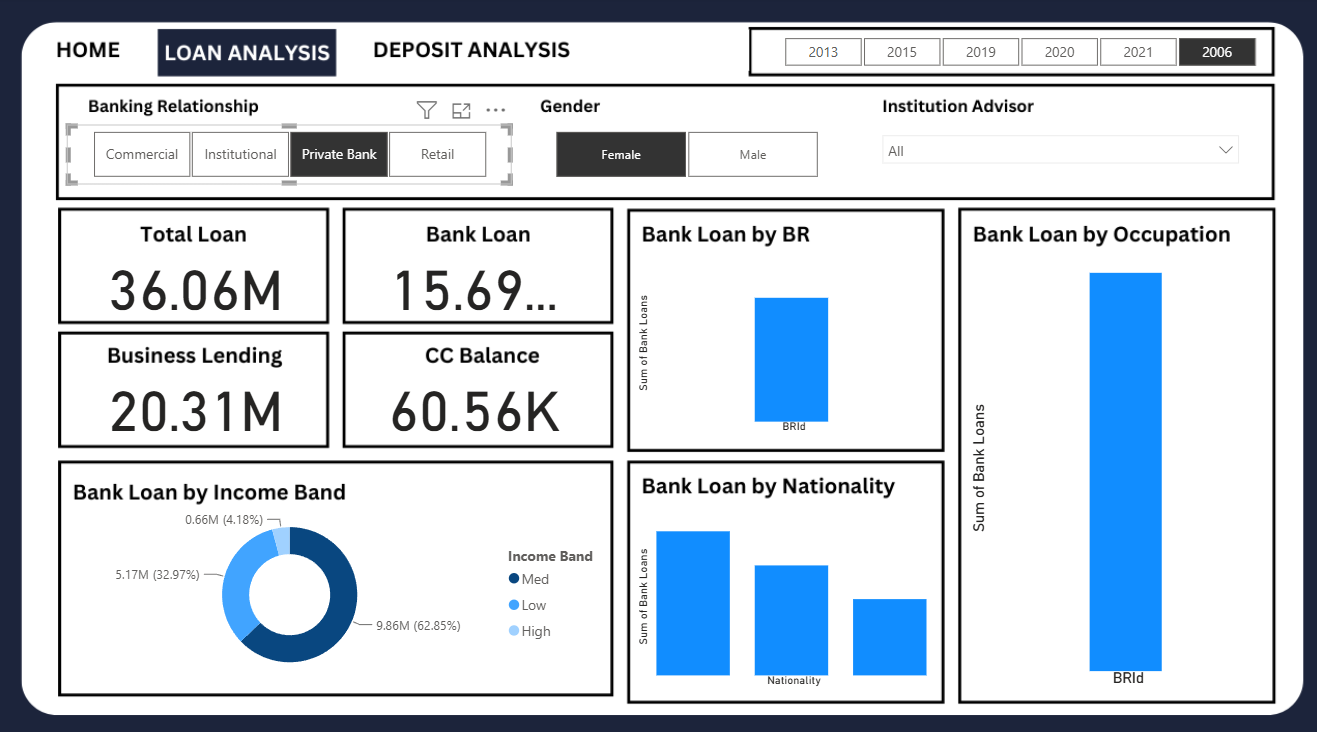

This screenshot's page, from the dashboard's own definition file:
{"tool":"powerbi","page":{"name":"Loan Analysis","canvas":[1280,720],"ordinal":1},"visuals":[{"type":"slicer","fields":{"Values":["banking_case customer.Year of Joining"]},"box":[733.3,32.2,504.1,34.9],"z":0},{"type":"actionButton","box":[36.4,31.7,99.7,39.6],"z":1000},{"type":"actionButton","box":[348.2,31.7,221.6,39.6],"z":2000},{"type":"actionButton","box":[587.1,31.7,123.4,39.6],"z":3000},{"type":"card","fields":{"Values":["banking_case customer.Total Loan"]},"box":[100.9,243.7,179.5,65.5],"z":4000},{"type":"card","fields":{"Values":["Sum(banking_case customer.Bank Loans)"]},"box":[369.5,243.7,179.5,65.5],"z":5000},{"type":"card","fields":{"Values":["Sum(banking_case customer.Business Lending)"]},"box":[100.9,360.4,179.5,65.5],"z":6000},{"type":"card","fields":{"Values":["Sum(banking_case customer.Credit Card Balance)"]},"box":[370.8,360.4,179.5,65.5],"z":7000},{"type":"donutChart","fields":{"Category":["banking_case customer.Income Band"],"Y":["Sum(banking_case customer.Bank Loans)"]},"box":[66.8,488.8,530.7,176.9],"z":8000},{"type":"clusteredColumnChart","fields":{"Category":["banking_case customer.BRId"],"Y":["Sum(banking_case customer.Bank Loans)"]},"box":[613.3,243.7,293.5,182.1],"z":9000},{"type":"clusteredColumnChart","fields":{"Category":["banking_case customer.Nationality"],"Y":["Sum(banking_case customer.Bank Loans)"]},"box":[613.3,488.8,293.5,182.1],"z":10000},{"type":"clusteredColumnChart","fields":{"Category":["banking_case customer.BRId"],"Y":["Sum(banking_case customer.Bank Loans)"]},"box":[933.7,245.3,292.8,425.7],"z":11000},{"type":"slicer","fields":{"Values":["banking_case customer.BRId"]},"box":[66.8,123.2,428.5,57.7],"z":12000},{"type":"slicer","fields":{"Values":["banking_case customer.GenderId"]},"box":[512.4,123.2,302.7,57.7],"z":13000},{"type":"slicer","fields":{"Values":["banking_case customer.IAId"]},"box":[843.9,123.2,364.3,57.7],"z":14000},{"type":"shape","box":[570.6,31.4,154.4,39.8],"z":14001}]}

Visuals, with their boxes in screenshot pixels (x1, y1, x2, y2), scaled from the page's 1280x720 canvas onto the 1317x732 screenshot:
slicer - banking_case customer.Year of Joining: (left=754, top=33, right=1273, bottom=68)
actionButton: (left=37, top=32, right=140, bottom=72)
actionButton: (left=358, top=32, right=586, bottom=72)
actionButton: (left=604, top=32, right=731, bottom=72)
card - banking_case customer.Total Loan: (left=104, top=248, right=289, bottom=314)
card - Sum(banking_case customer.Bank Loans): (left=380, top=248, right=565, bottom=314)
card - Sum(banking_case customer.Business Lending): (left=104, top=366, right=289, bottom=433)
card - Sum(banking_case customer.Credit Card Balance): (left=382, top=366, right=566, bottom=433)
donutChart - banking_case customer.Income Band x Sum(banking_case customer.Bank Loans): (left=69, top=497, right=615, bottom=677)
clusteredColumnChart - banking_case customer.BRId x Sum(banking_case customer.Bank Loans): (left=631, top=248, right=933, bottom=433)
clusteredColumnChart - banking_case customer.Nationality x Sum(banking_case customer.Bank Loans): (left=631, top=497, right=933, bottom=682)
clusteredColumnChart - banking_case customer.BRId x Sum(banking_case customer.Bank Loans): (left=961, top=249, right=1262, bottom=682)
slicer - banking_case customer.BRId: (left=69, top=125, right=510, bottom=184)
slicer - banking_case customer.GenderId: (left=527, top=125, right=839, bottom=184)
slicer - banking_case customer.IAId: (left=868, top=125, right=1243, bottom=184)
shape: (left=587, top=32, right=746, bottom=72)
